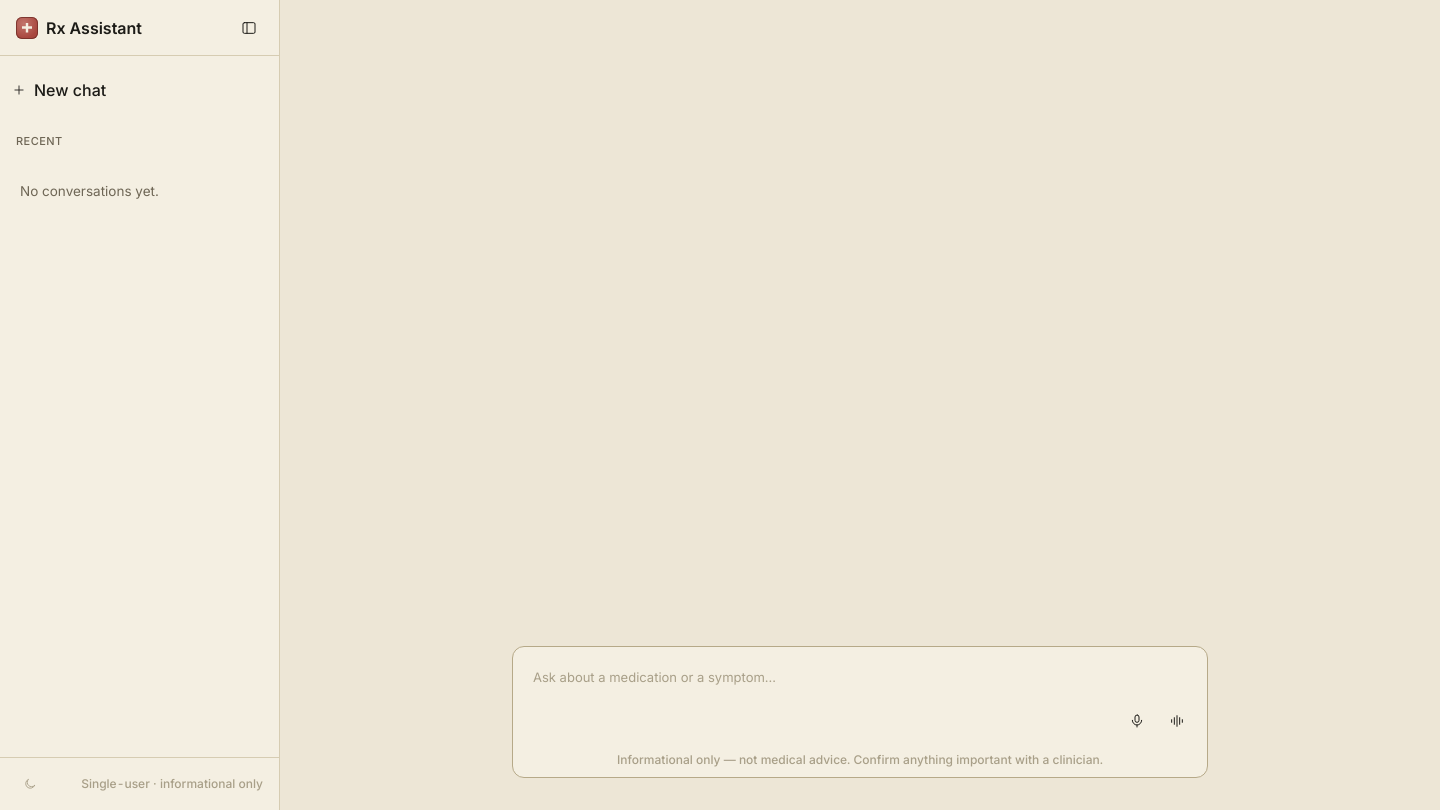
Test: live stream — slice 15 integration › tool roundtrip: tool pill appears, then text answers
The image size is (1440, 810).
In the text box with placeholder "Ask about a medication or a symptom…": (860, 679) [525, 659, 1195, 699], type "ibuprofen?"
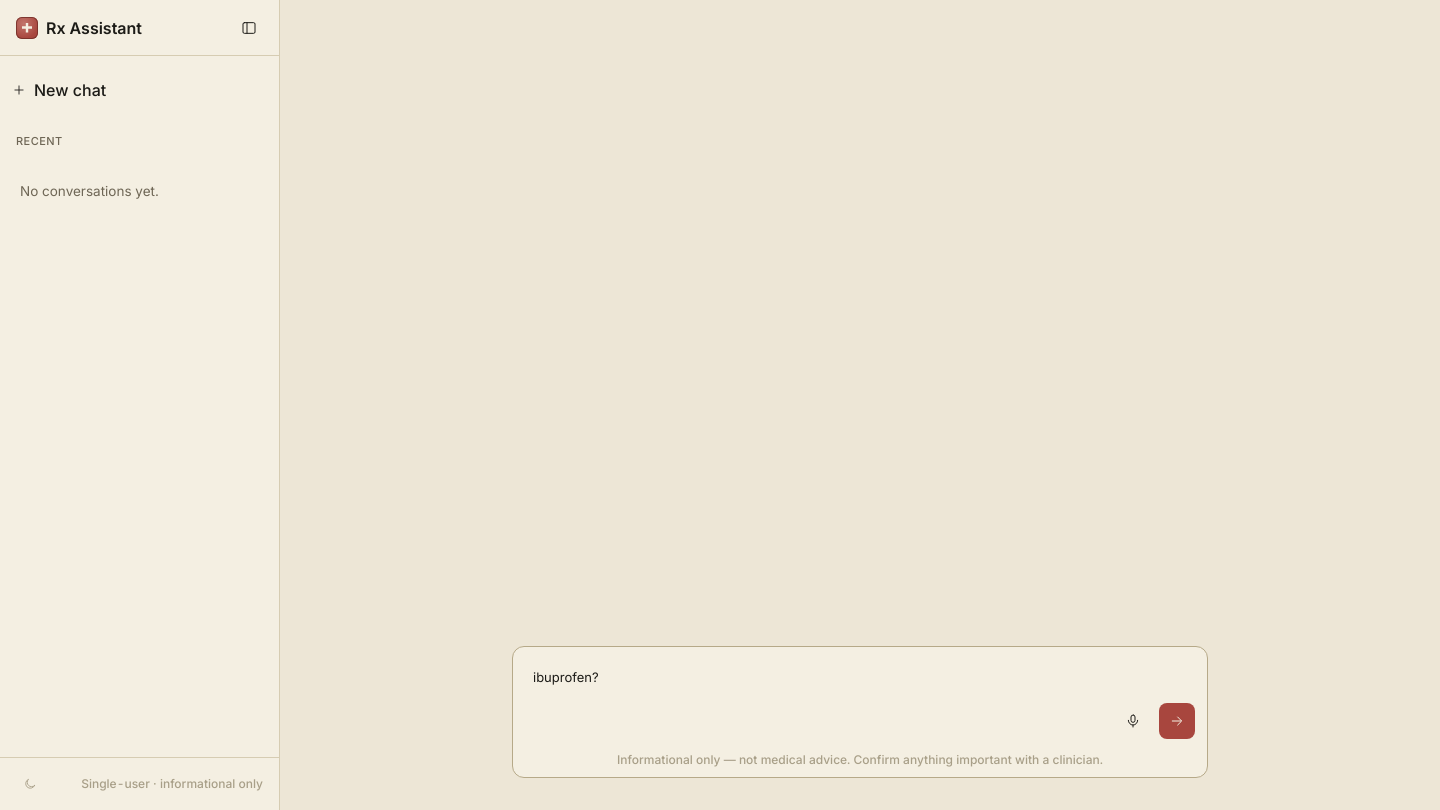
Click the button named "send": (1177, 721) [1159, 703, 1195, 739]
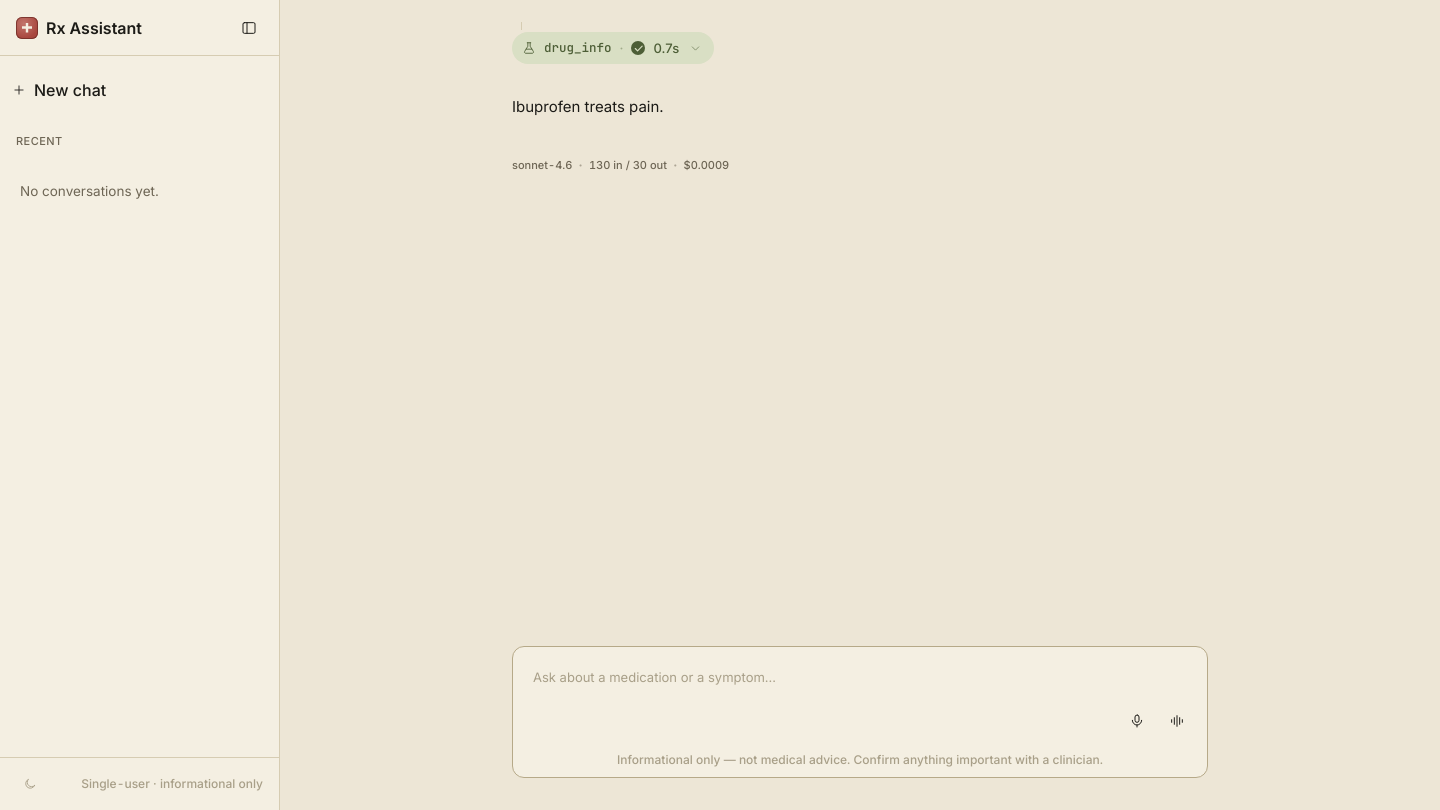
Result: the text "Ibuprofen treats pain." is shown at [512, 97, 664, 116]
Result: the text "drug_info" is shown at [544, 39, 612, 57]
Result: the text "0.7s" is shown at [654, 39, 679, 57]
